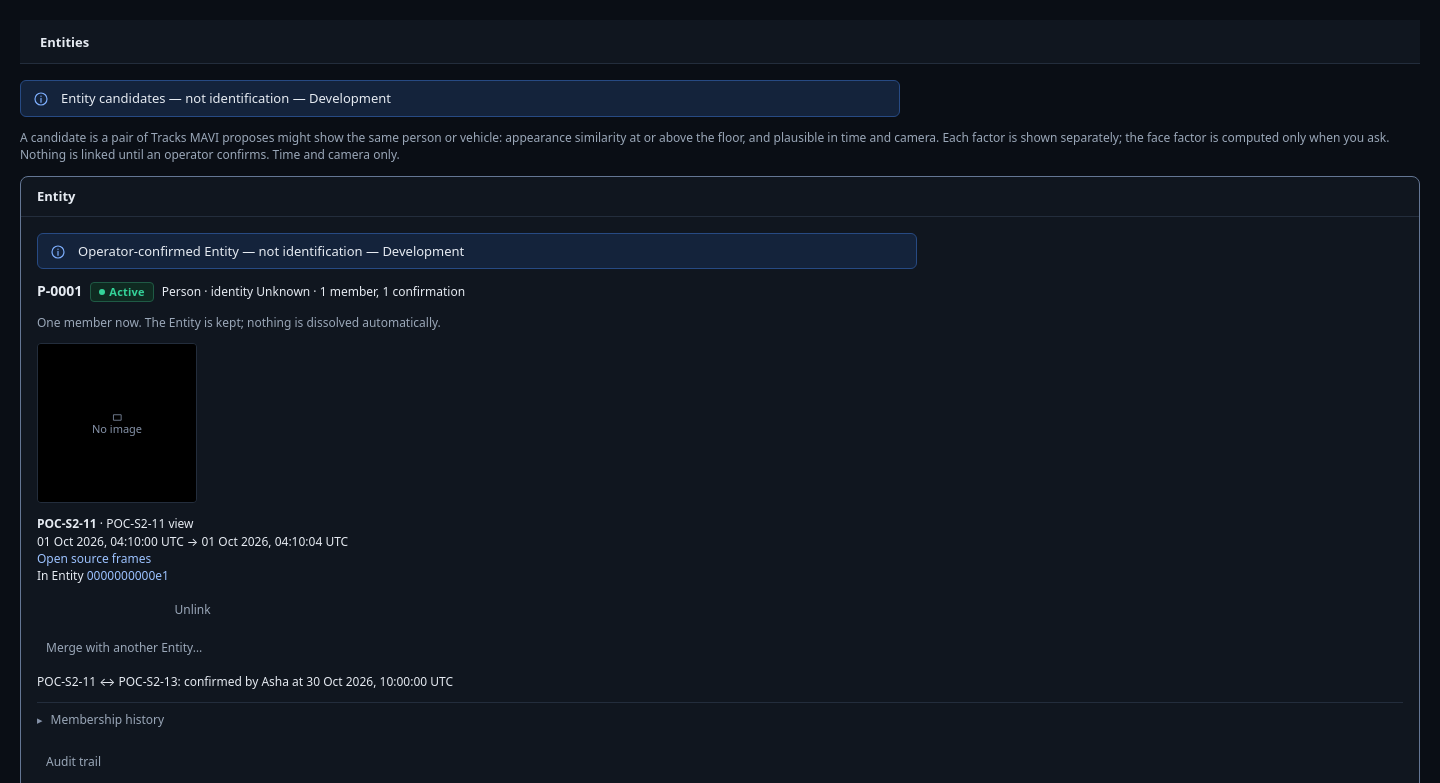
Scenario: PoC S11-full Entity corrections › unlinks the last member through a confirm step, and keeps the Entity with no members
Click the button "Unlink" at (193, 610), box 37,597 -> 348,623
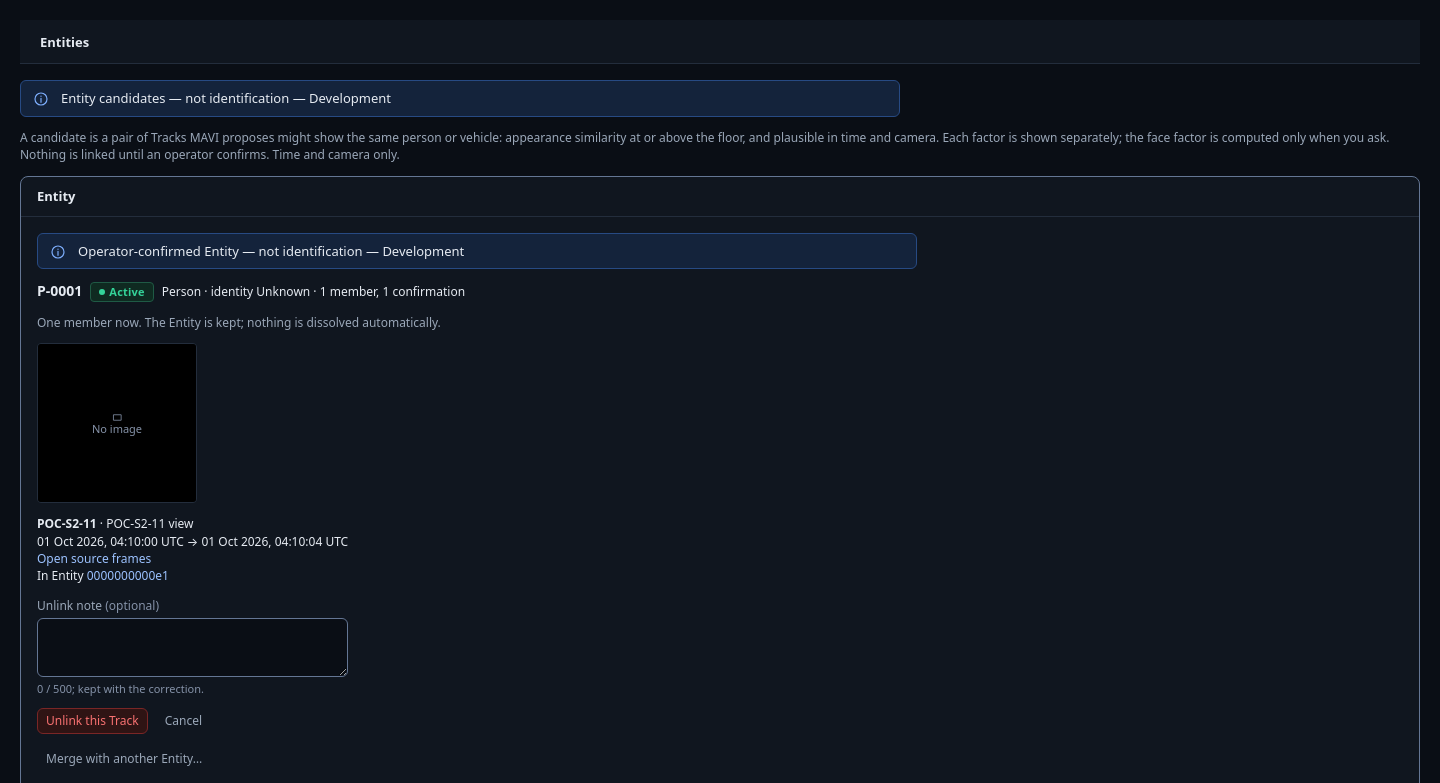
Type "wrong person crop" into the text box labelled "Unlink note (optional)" at (193, 647), box 37,618 -> 348,677
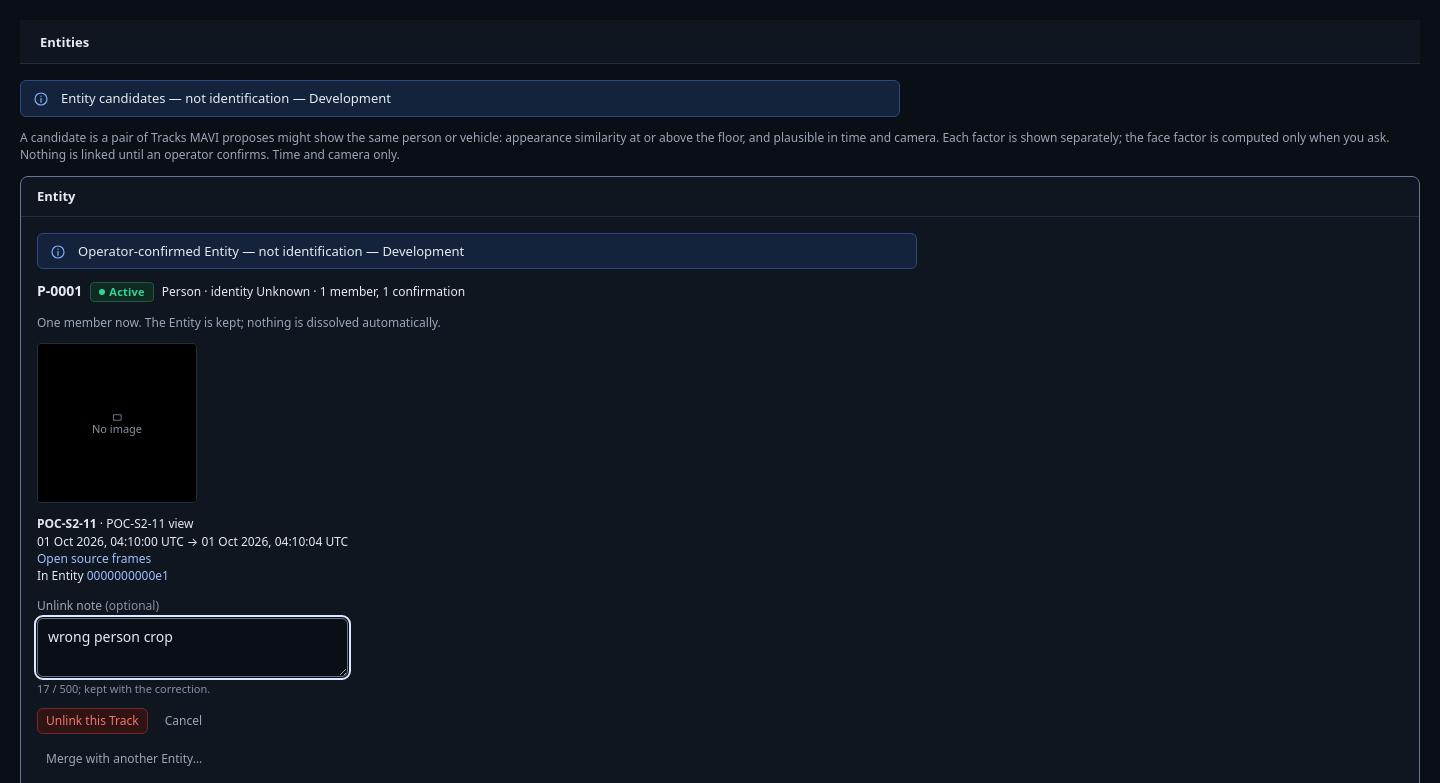
Click the button "Unlink this Track" at (92, 721), box 37,708 -> 148,734
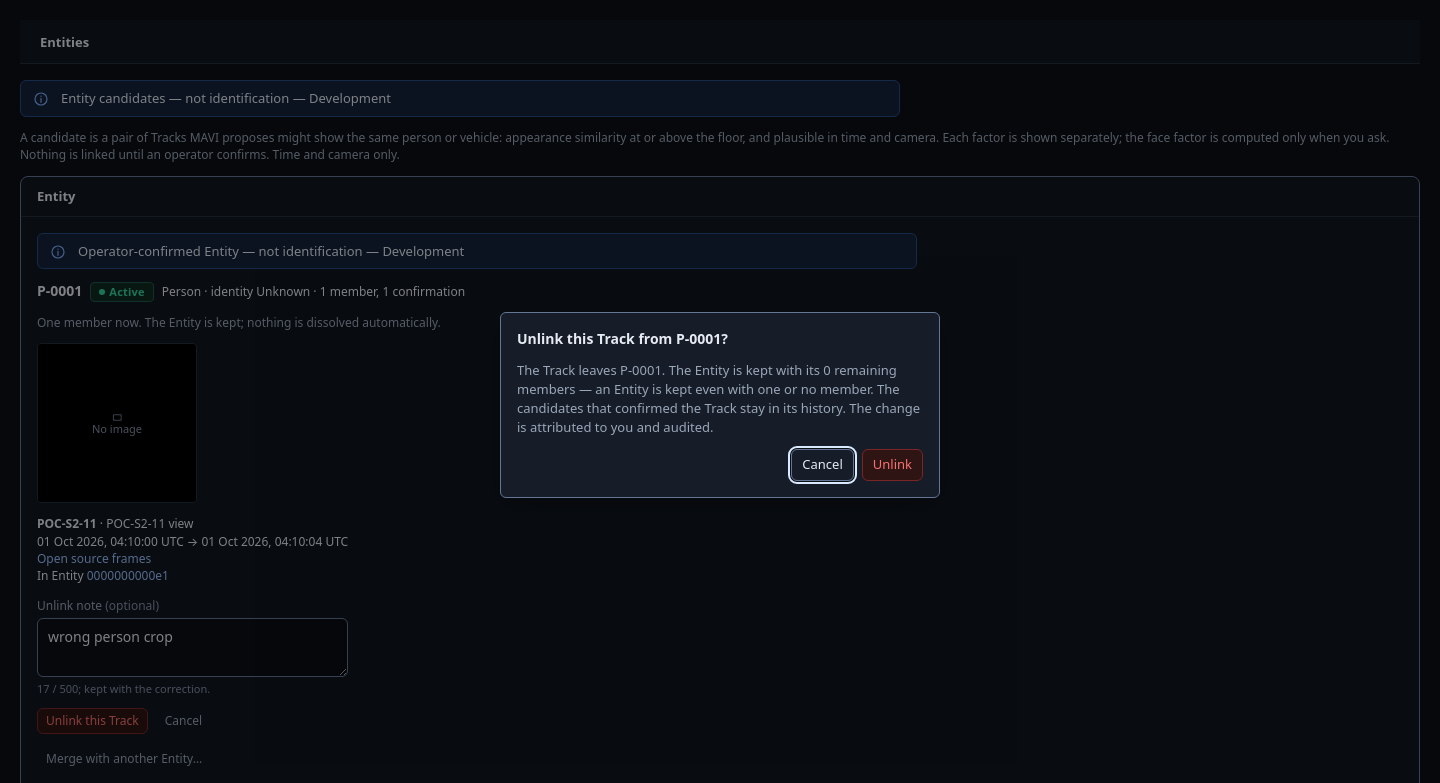
Now the dialog shows "an Entity is kept even with one or no member", box 517,362 -> 920,436
Click the button "Unlink" at (892, 465), box 862,449 -> 923,481
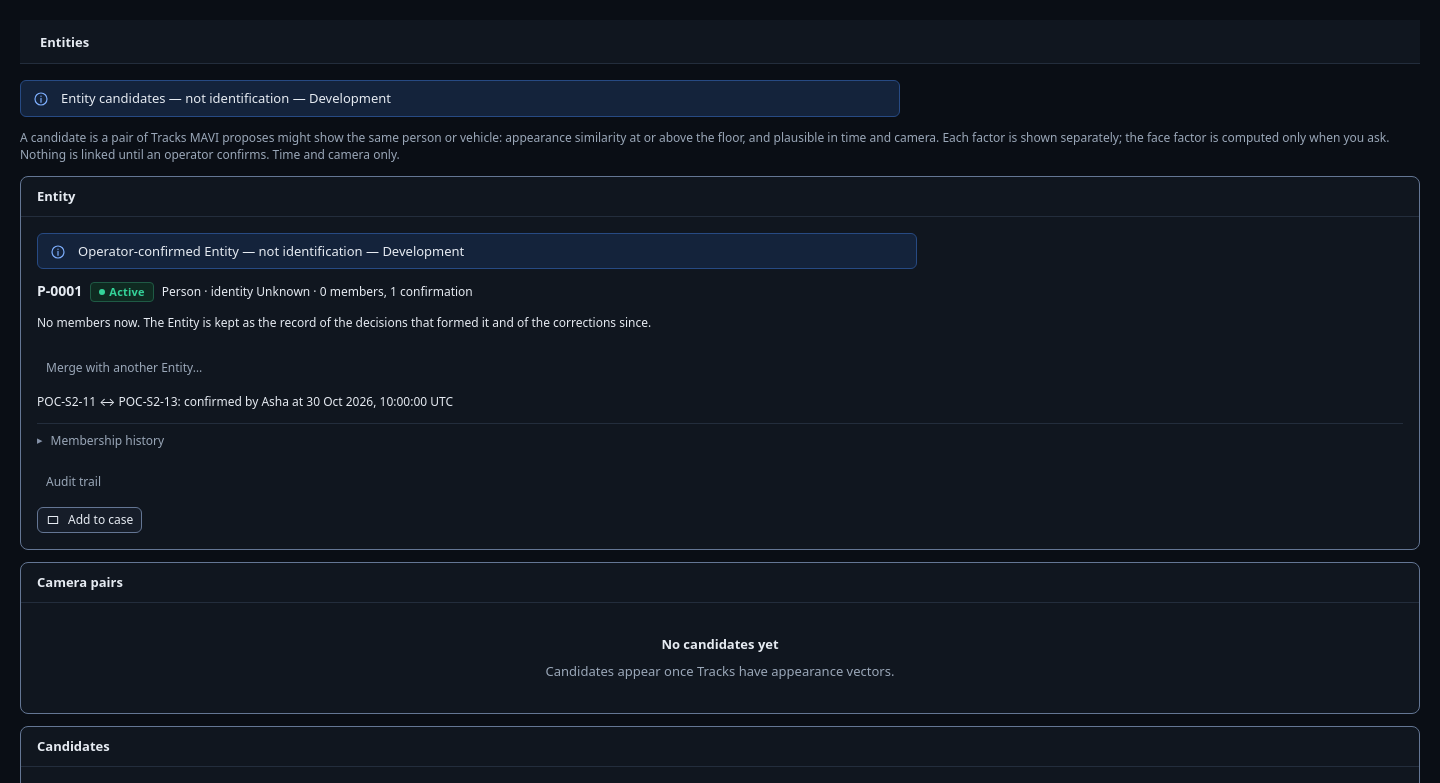
Expected: the text "P-0001" is shown, 37,282 -> 82,302
Now the text "No members now. The Entity is kept" is shown, box 37,314 -> 651,331
